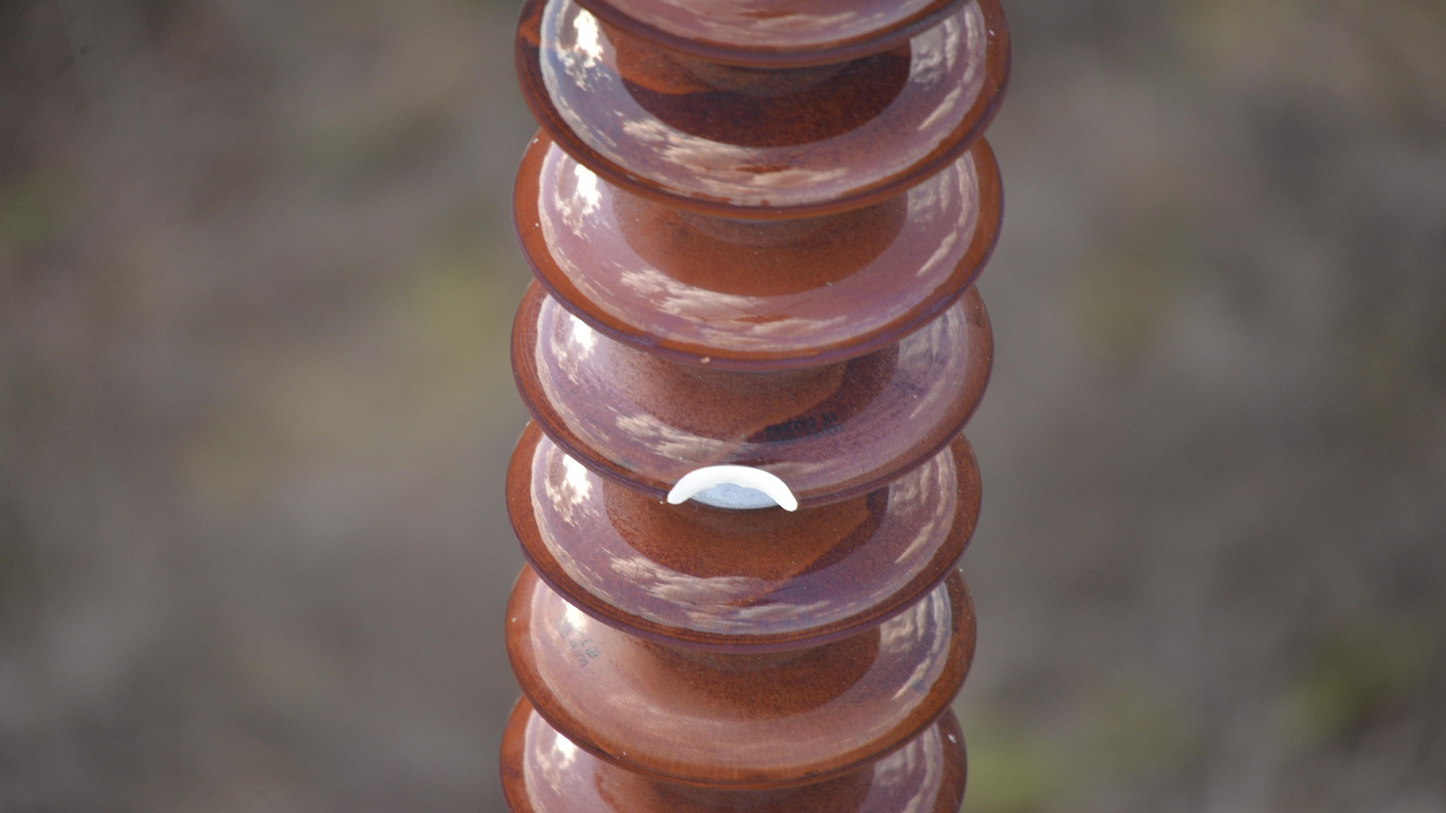insulator: (493, 1, 1021, 813)
